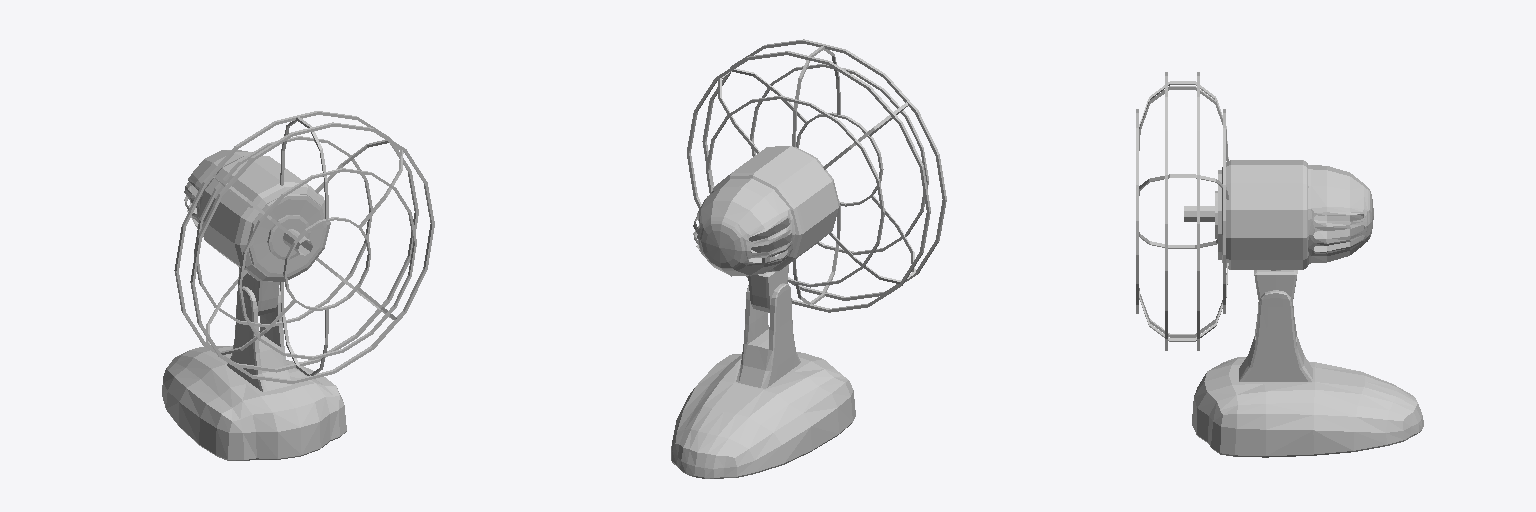
The model's file is Fan_Body.obj.
3 views of the same model, side by side, from view 1: azimuth 30°, elevation 25°; view 2: azimuth 150°, elevation 25°; view 3: azimuth 270°, elevation 25° (orthographic).
Visible parts, largest first — view 1: FanB_Head, FanB_Base; view 2: FanB_Head, FanB_Base; view 3: FanB_Base, FanB_Head.
Boxes of the visible parts, x1,y1,x2,y2 form: FanB_Head: [174, 111, 434, 383]; FanB_Base: [162, 267, 346, 460]; FanB_Head: [687, 39, 946, 312]; FanB_Base: [671, 255, 855, 478]; FanB_Base: [1192, 270, 1423, 457]; FanB_Head: [1136, 72, 1373, 350].
Bounding box in the file's own units: 12.67 × 16.89 × 13.05.